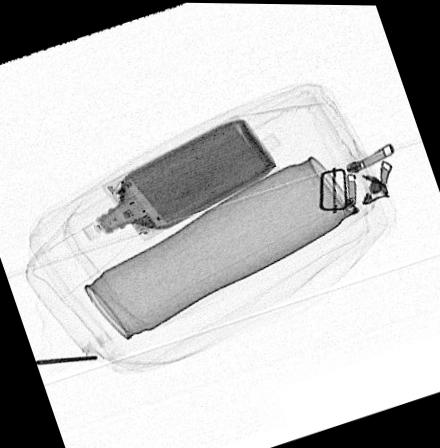Powerbank: (100, 112, 277, 242)
